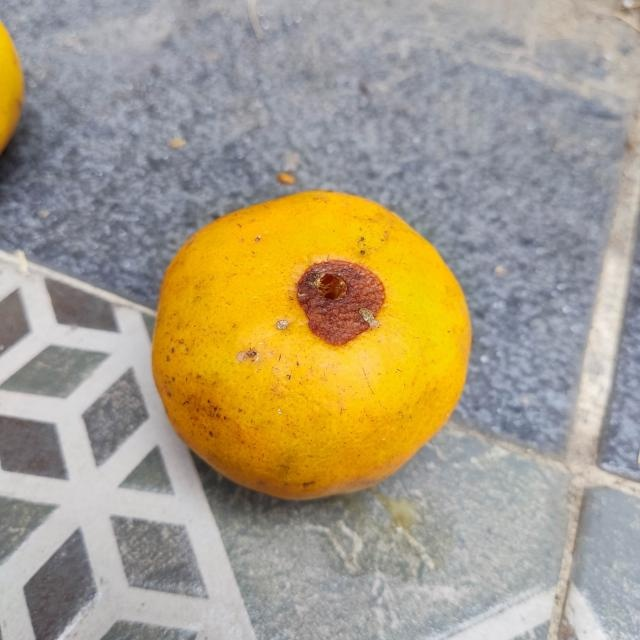agrume: (147, 187, 473, 503)
